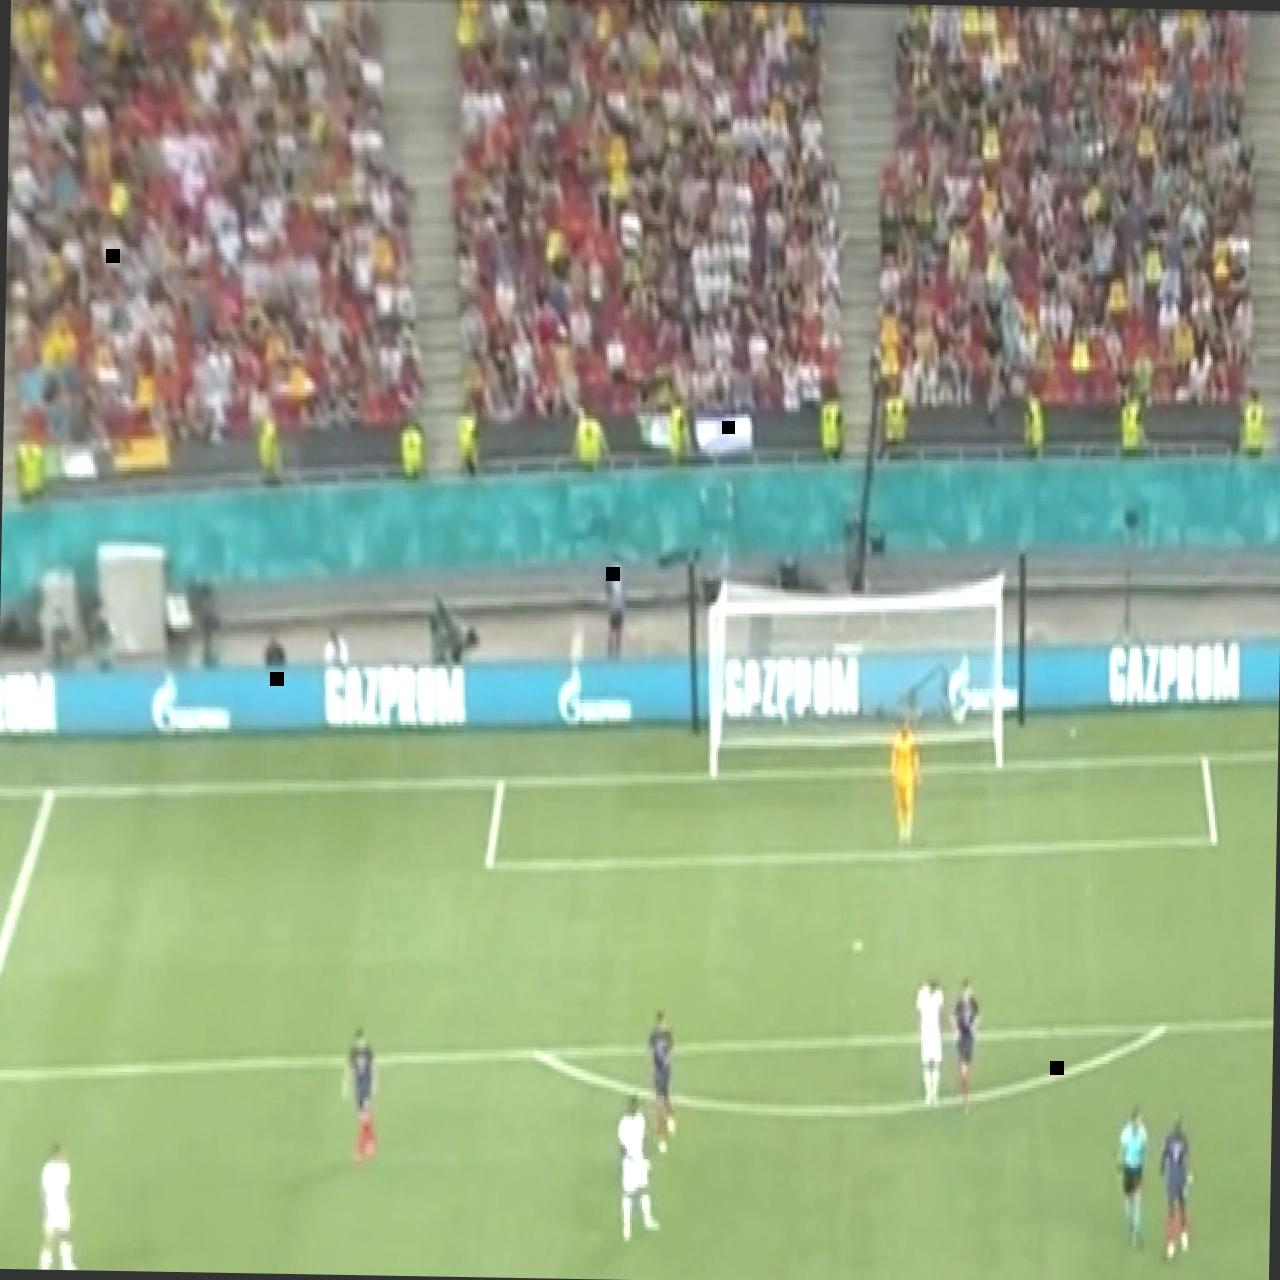football: (612, 1084, 668, 1256), (1149, 1102, 1200, 1274), (906, 954, 955, 1123), (335, 1018, 384, 1178), (638, 999, 684, 1164), (1108, 1095, 1154, 1258), (944, 967, 986, 1133), (31, 1131, 81, 1270), (884, 706, 924, 854), (663, 1277, 711, 1280)
